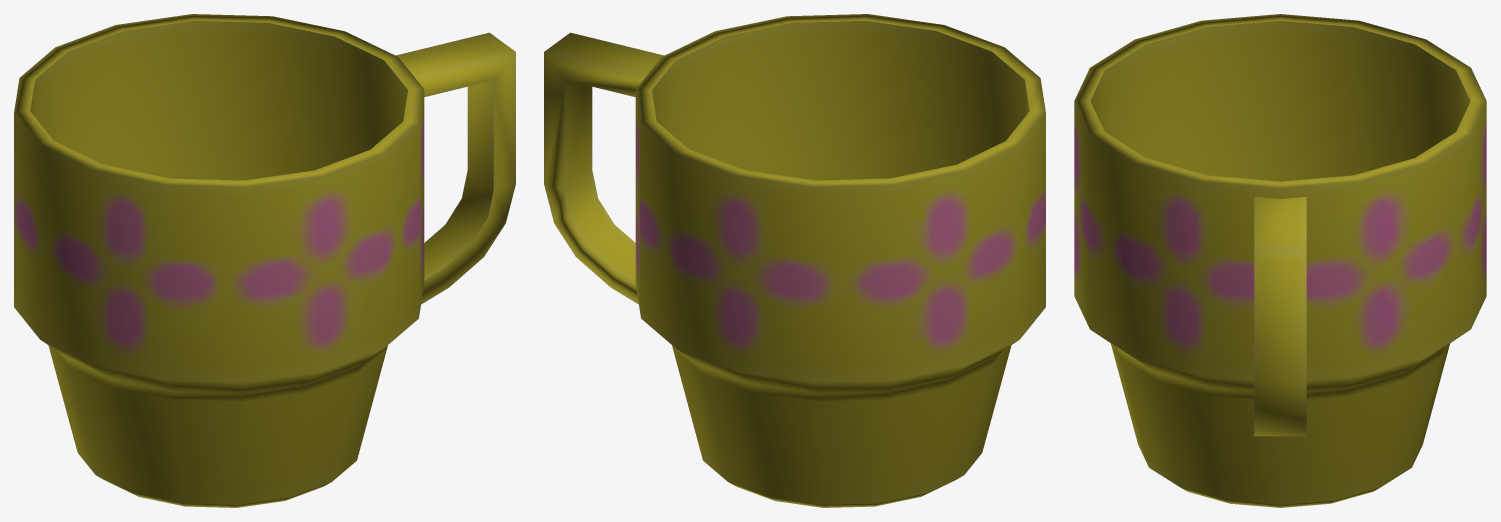
Rendered from pi_cup02_03.gltf.
3 views of the same model, side by side, from view 1: azimuth 30°, elevation 25°; view 2: azimuth 150°, elevation 25°; view 3: azimuth 270°, elevation 25° (orthographic).
Visible parts, largest first — view 1: pi_cup02_03_mesh_shape:pi_cup02_03_body01; view 2: pi_cup02_03_mesh_shape:pi_cup02_03_body01; view 3: pi_cup02_03_mesh_shape:pi_cup02_03_body01.
Boxes of the visible parts, left/top/right/bottom form: pi_cup02_03_mesh_shape:pi_cup02_03_body01: left=14, top=14, right=515, bottom=507; pi_cup02_03_mesh_shape:pi_cup02_03_body01: left=544, top=14, right=1045, bottom=507; pi_cup02_03_mesh_shape:pi_cup02_03_body01: left=1074, top=14, right=1486, bottom=507.
Size of what is drawn, in the model's own units: 0.1646 by 0.1197 by 0.1275.
1 material, 1 textured.
